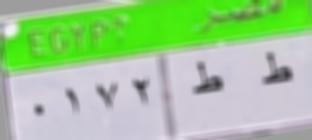0: (30, 93, 51, 126)
1: (58, 82, 84, 119)
2: (131, 73, 155, 108)
7: (95, 79, 121, 115)
Taa: (185, 59, 225, 104), (254, 48, 293, 94)
